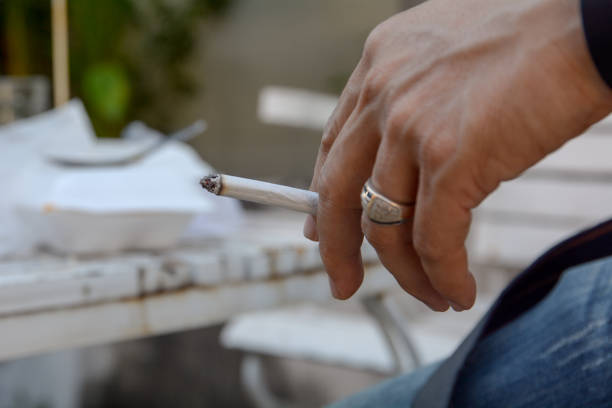cigarette: (198, 173, 320, 215)
